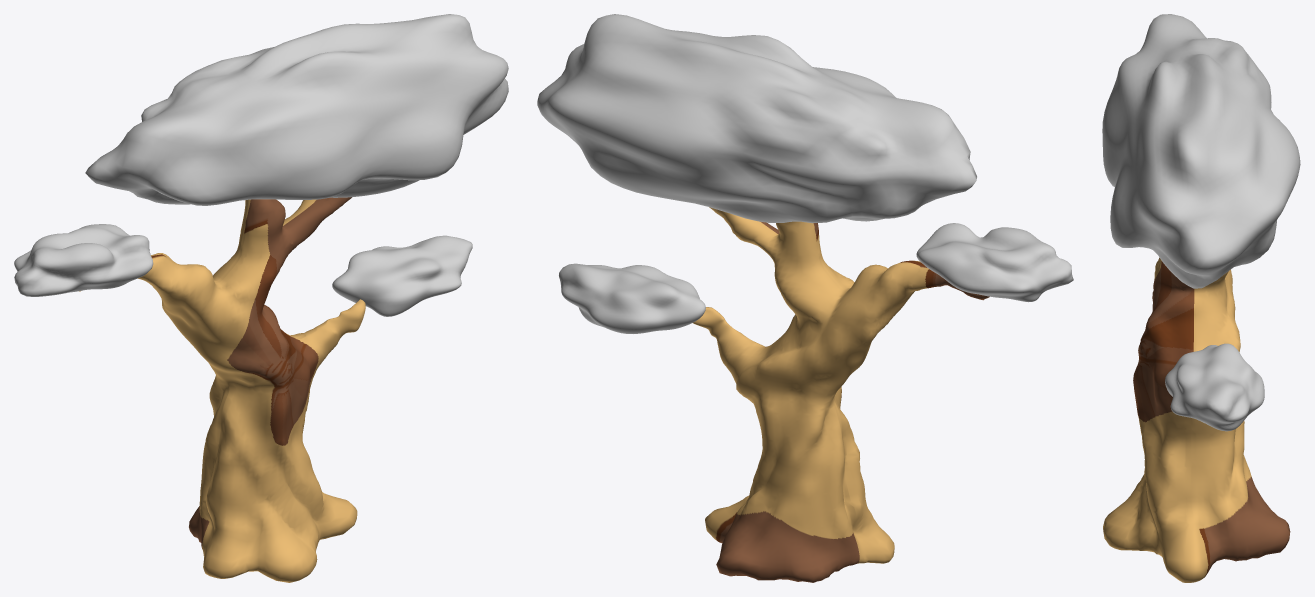
File: ATREECROWN.fbx
3 renders of one model, left to right at view 1: azimuth 30°, elevation 25°; view 2: azimuth 150°, elevation 25°; view 3: azimuth 270°, elevation 25°, orthographic.
Visible parts, largest first — view 1: Icosphere.002, Cylinder; view 2: Icosphere.002, Cylinder; view 3: Icosphere.002, Cylinder.
Part boxes in pixels (x1=…): Icosphere.002: x1=14, y1=14, x2=508, y2=316; Cylinder: x1=79, y1=197, x2=365, y2=582; Icosphere.002: x1=537, y1=14, x2=1073, y2=333; Cylinder: x1=693, y1=207, x2=989, y2=582; Icosphere.002: x1=1102, y1=14, x2=1300, y2=431; Cylinder: x1=1103, y1=257, x2=1290, y2=582.
Bounding box in the file's own units: 1003 × 940 × 335.
